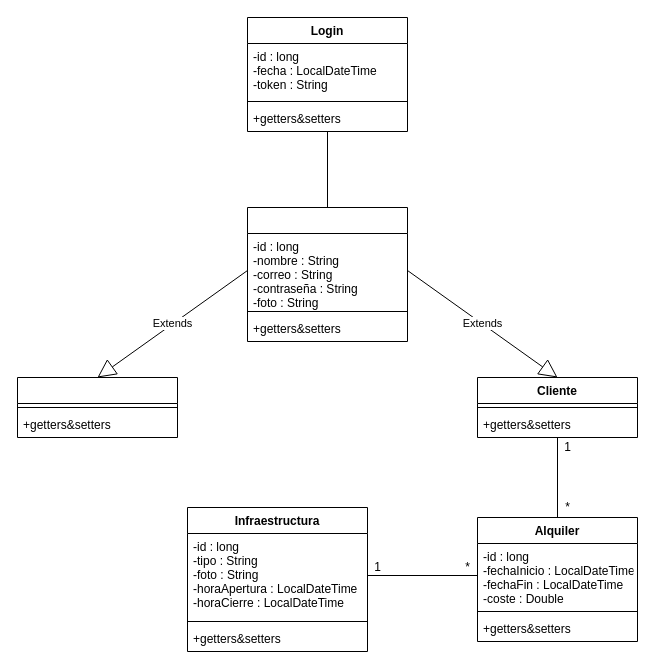
Image size: 655x672. Some labels were removed from this diagram. Each missing label, with the box of its shape:
Admin: (16, 376, 178, 438)
User: (246, 206, 408, 342)
